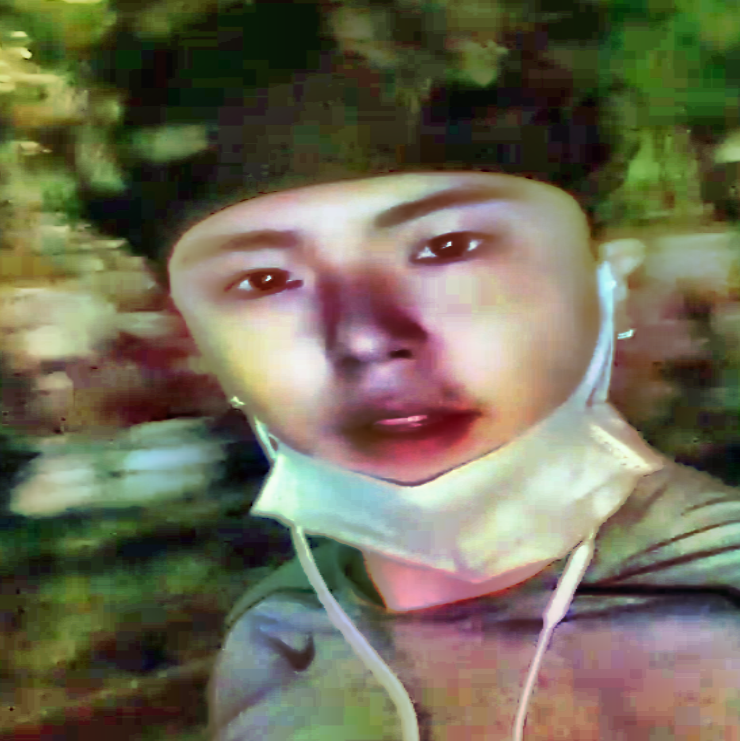mask_weared_incorrect: (164, 98, 650, 580)
